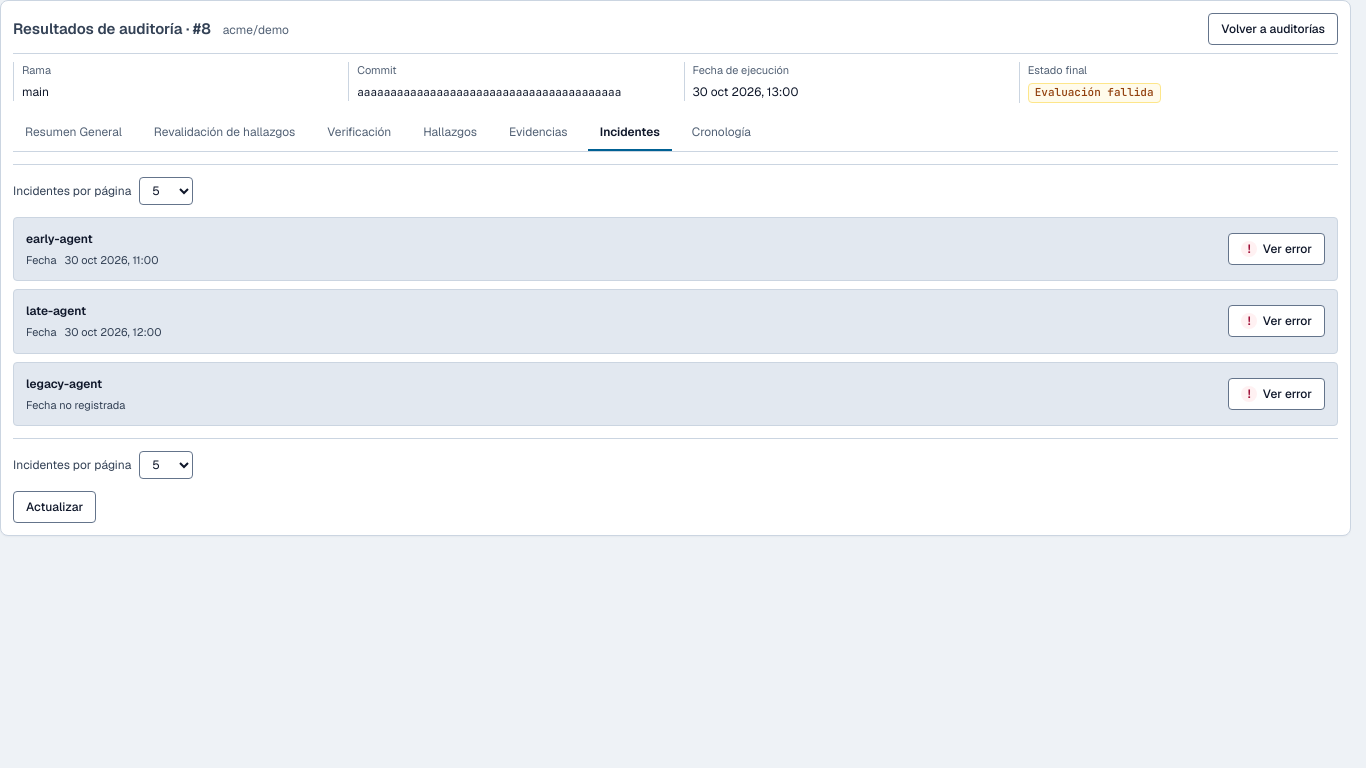
adds Incidents after Evidence, deduplicates inherited causes, sorts chronologically and opens individual details
Expected: the text "Fecha" is shown 2 times, [26,252,56,268]; [26,324,56,340]
Expected: the text "Fecha no registrada" is shown, [26,396,125,413]
Click the button "! Ver error" in the row of "30 oct 2026, 11:00" at (1277, 249), box [1228,233,1325,265]
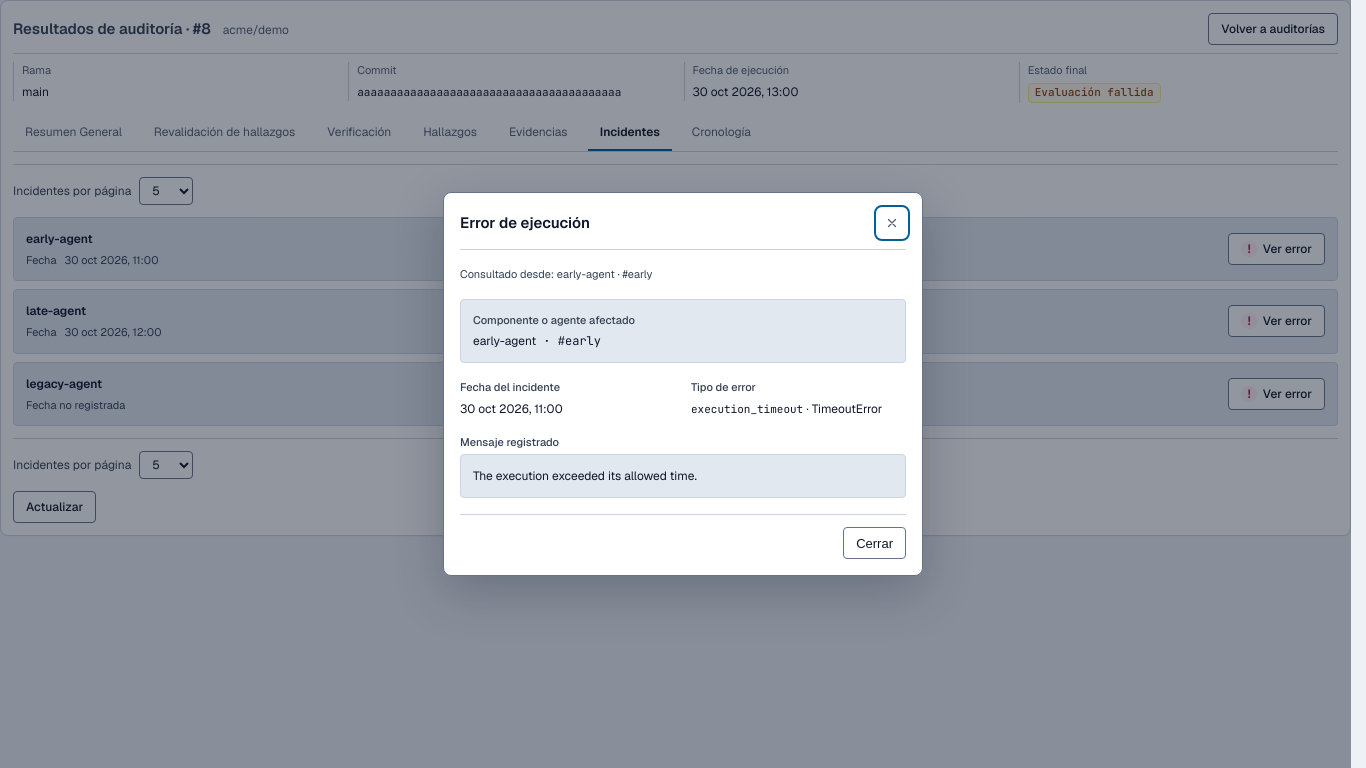
Result: the dialog shows "The execution exceeded its allowed time." at [473,468,697,484]
Press Escape
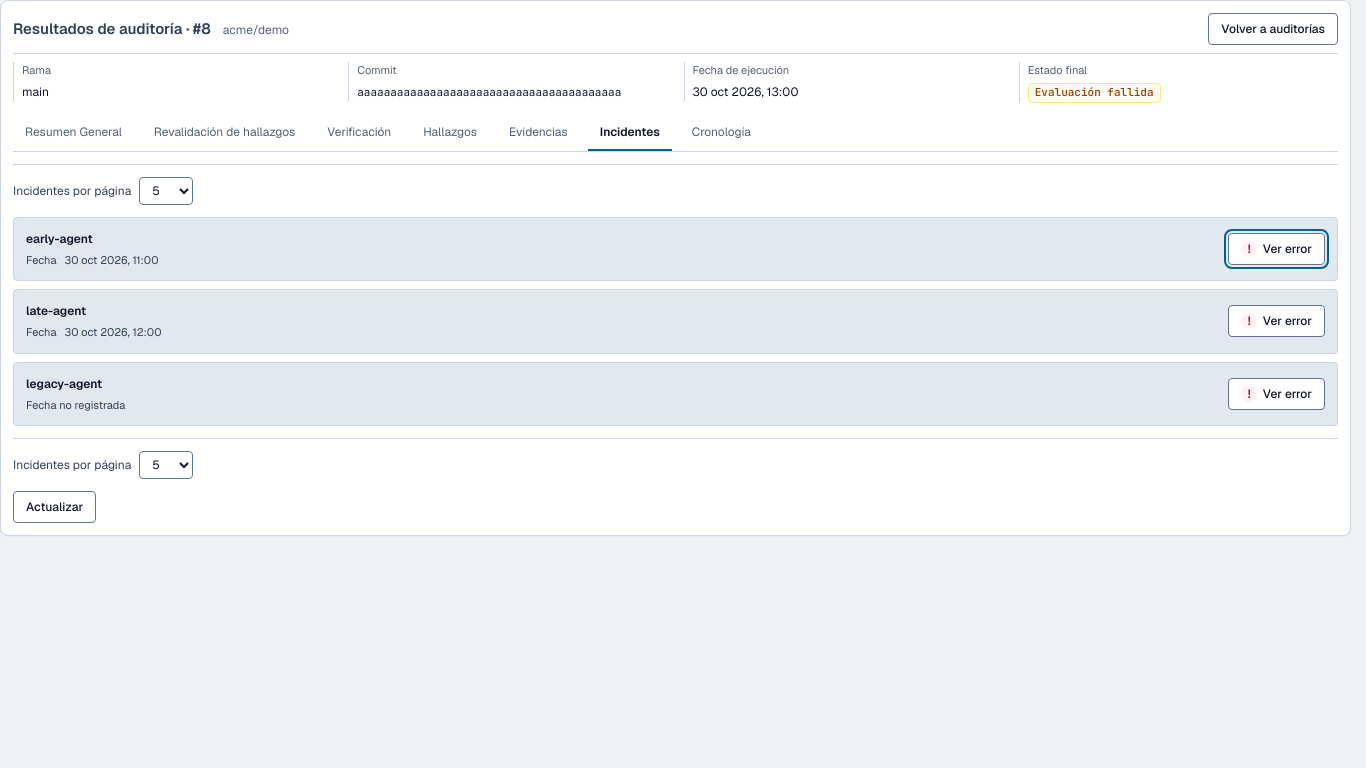
Click the button "! Ver error" in the row of "Fecha no registrada" at (1277, 394), box [1228,378,1325,410]
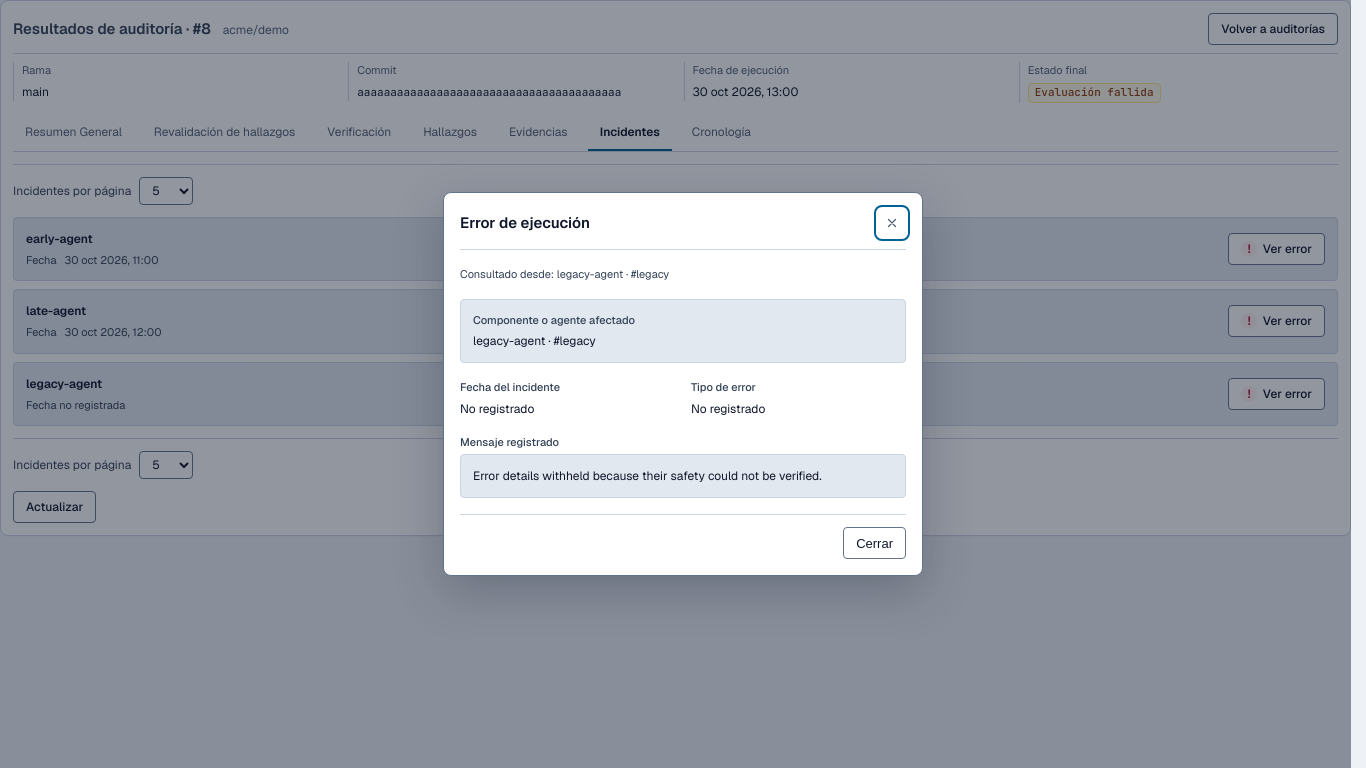
Result: the dialog shows "Error details withheld because their safety could not be verified." at [473,468,822,484]
